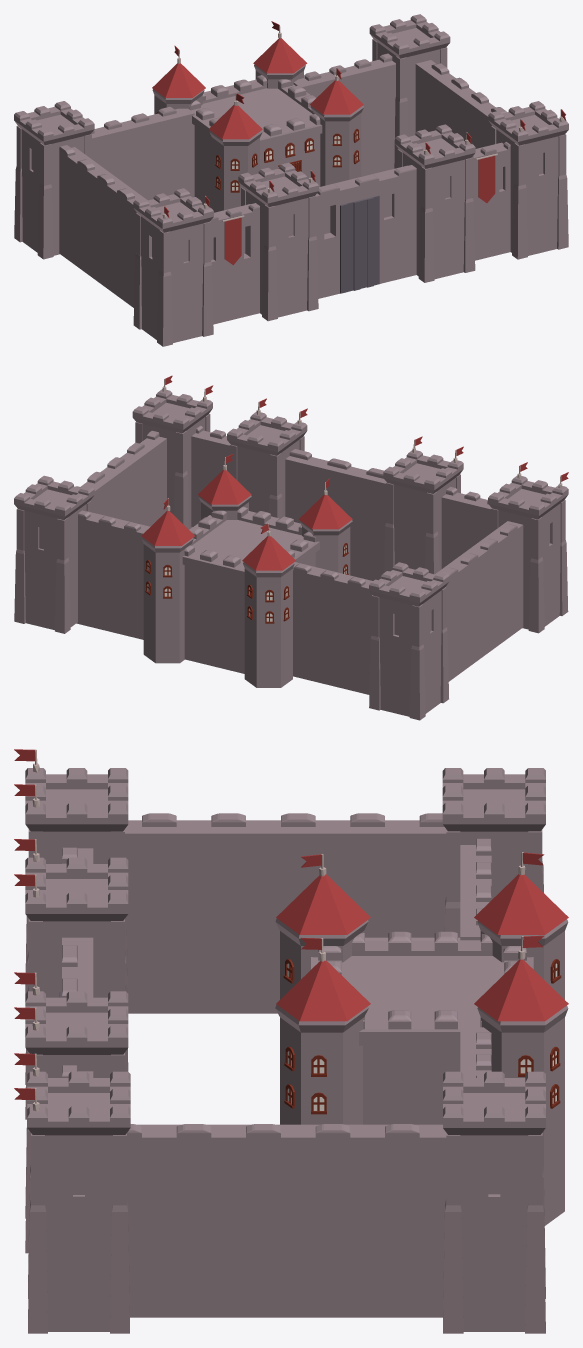
File: House_of_Domination.fbx
The picture shows the model from 3 angles, top to bottom: view 1: azimuth 30°, elevation 25°; view 2: azimuth 150°, elevation 25°; view 3: azimuth 270°, elevation 25°; orthographic projection. The views are drawn at different scales.
Visible parts, largest first — view 1: House_of_Domination; view 2: House_of_Domination; view 3: House_of_Domination.
Boxes of the visible parts, x1=… form: House_of_Domination: x1=14, y1=14, x2=568, y2=346; House_of_Domination: x1=14, y1=375, x2=568, y2=720; House_of_Domination: x1=14, y1=749, x2=568, y2=1333.
Bounding box in the file's own units: 3736 × 5531 × 2038.
